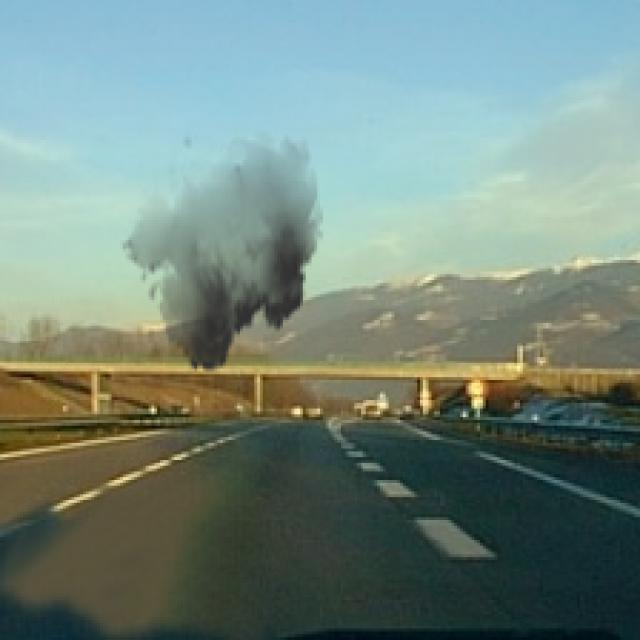Smoke: (120, 123, 323, 383)
